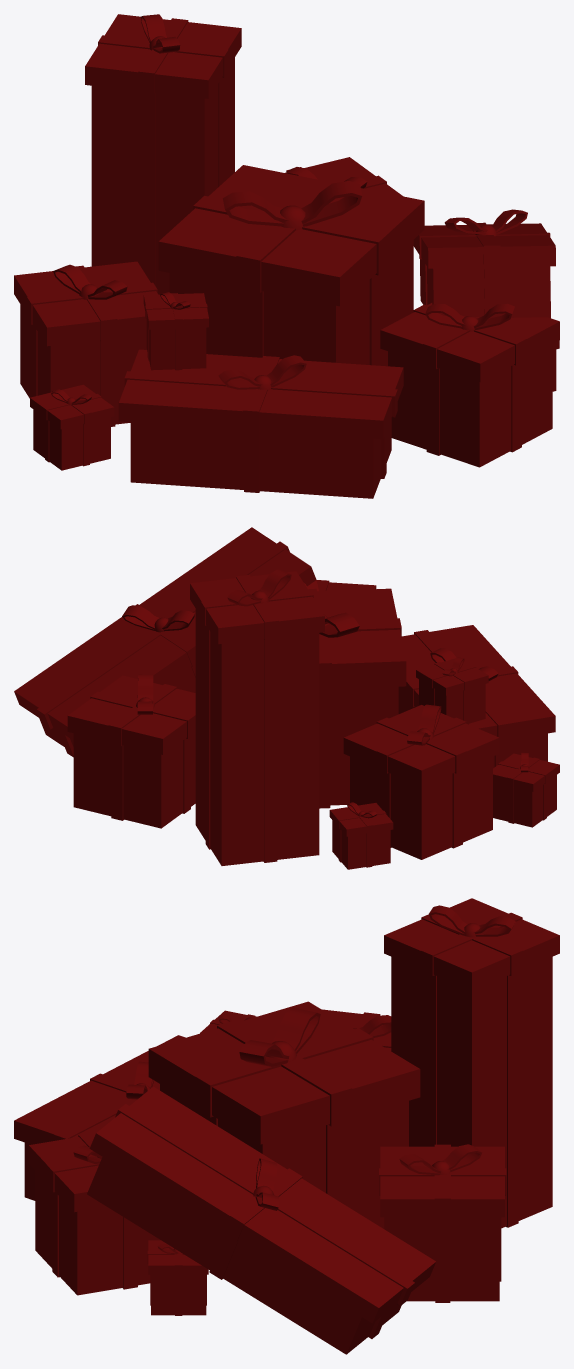
File: P_KDOStack_01.FBX
3 renders of one model, top to bottom at view 1: azimuth 30°, elevation 25°; view 2: azimuth 150°, elevation 25°; view 3: azimuth 270°, elevation 25°, orthographic. The views are drawn at different scales.
Visible parts, largest first — view 1: P_KDOStack_01; view 2: P_KDOStack_01; view 3: P_KDOStack_01.
Part boxes in pixels (<box>): P_KDOStack_01: <box>14,14,559,498</box>; P_KDOStack_01: <box>14,527,559,869</box>; P_KDOStack_01: <box>14,898,559,1354</box>.
Size of the model in its own units: 220 by 115 by 191.
